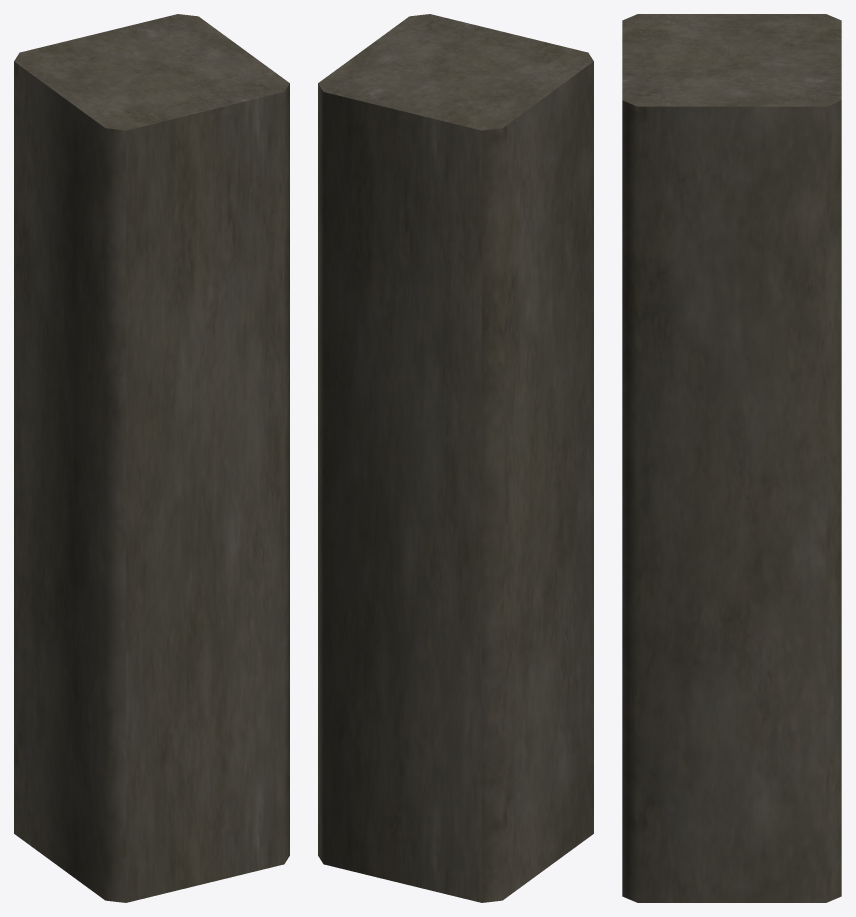
Rendered from RailsPost_1.fbx.
3 views of the same model, side by side, from view 1: azimuth 30°, elevation 25°; view 2: azimuth 150°, elevation 25°; view 3: azimuth 270°, elevation 25° (orthographic). The views are drawn at different scales.
Visible parts, largest first — view 1: RailsPost_1; view 2: RailsPost_1; view 3: RailsPost_1.
Part boxes in pixels (x1=…): RailsPost_1: x1=14, y1=14, x2=289, y2=902; RailsPost_1: x1=318, y1=14, x2=593, y2=902; RailsPost_1: x1=622, y1=14, x2=841, y2=902.
Bounding box in the file's own units: 1 × 4 × 1.
